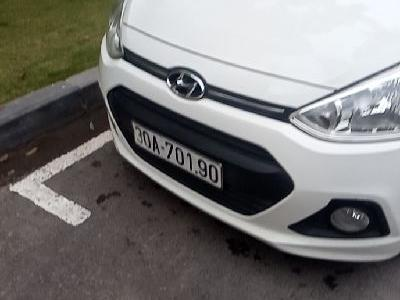car: (132, 122, 223, 189)
